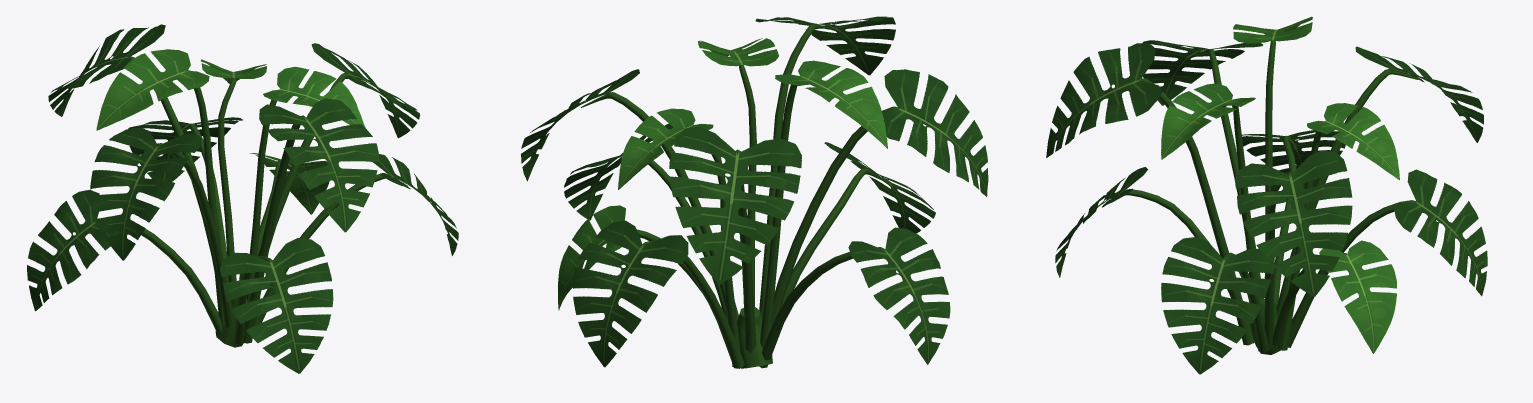
3 renders of one model, left to right at view 1: azimuth 30°, elevation 25°; view 2: azimuth 150°, elevation 25°; view 3: azimuth 270°, elevation 25°, orthographic. The views are drawn at different scales.
Visible parts, largest first — view 1: Mesh_MonsteraLeaves, Mesh_MonsteraStems; view 2: Mesh_MonsteraLeaves, Mesh_MonsteraStems; view 3: Mesh_MonsteraLeaves, Mesh_MonsteraStems.
Boxes of the visible parts, x1,y1,x2,y2 form: Mesh_MonsteraLeaves: (27, 24, 458, 373); Mesh_MonsteraStems: (95, 56, 410, 347); Mesh_MonsteraLeaves: (521, 16, 988, 367); Mesh_MonsteraStems: (581, 24, 925, 368); Mesh_MonsteraLeaves: (1046, 16, 1487, 374); Mesh_MonsteraStems: (1102, 39, 1438, 354).
Size of the model in its own units: 1.3 by 0.9448 by 1.37.
Materials: 2 (2 with a texture image).
